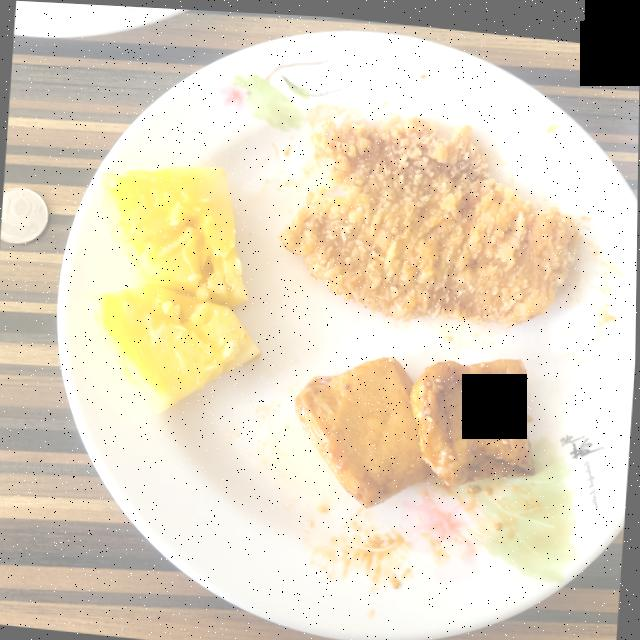coin: (1, 187, 49, 244)
creamy tofu: (296, 353, 536, 504)
fried chicken cutlet: (280, 112, 580, 321)
pineapple: (89, 164, 261, 410)
